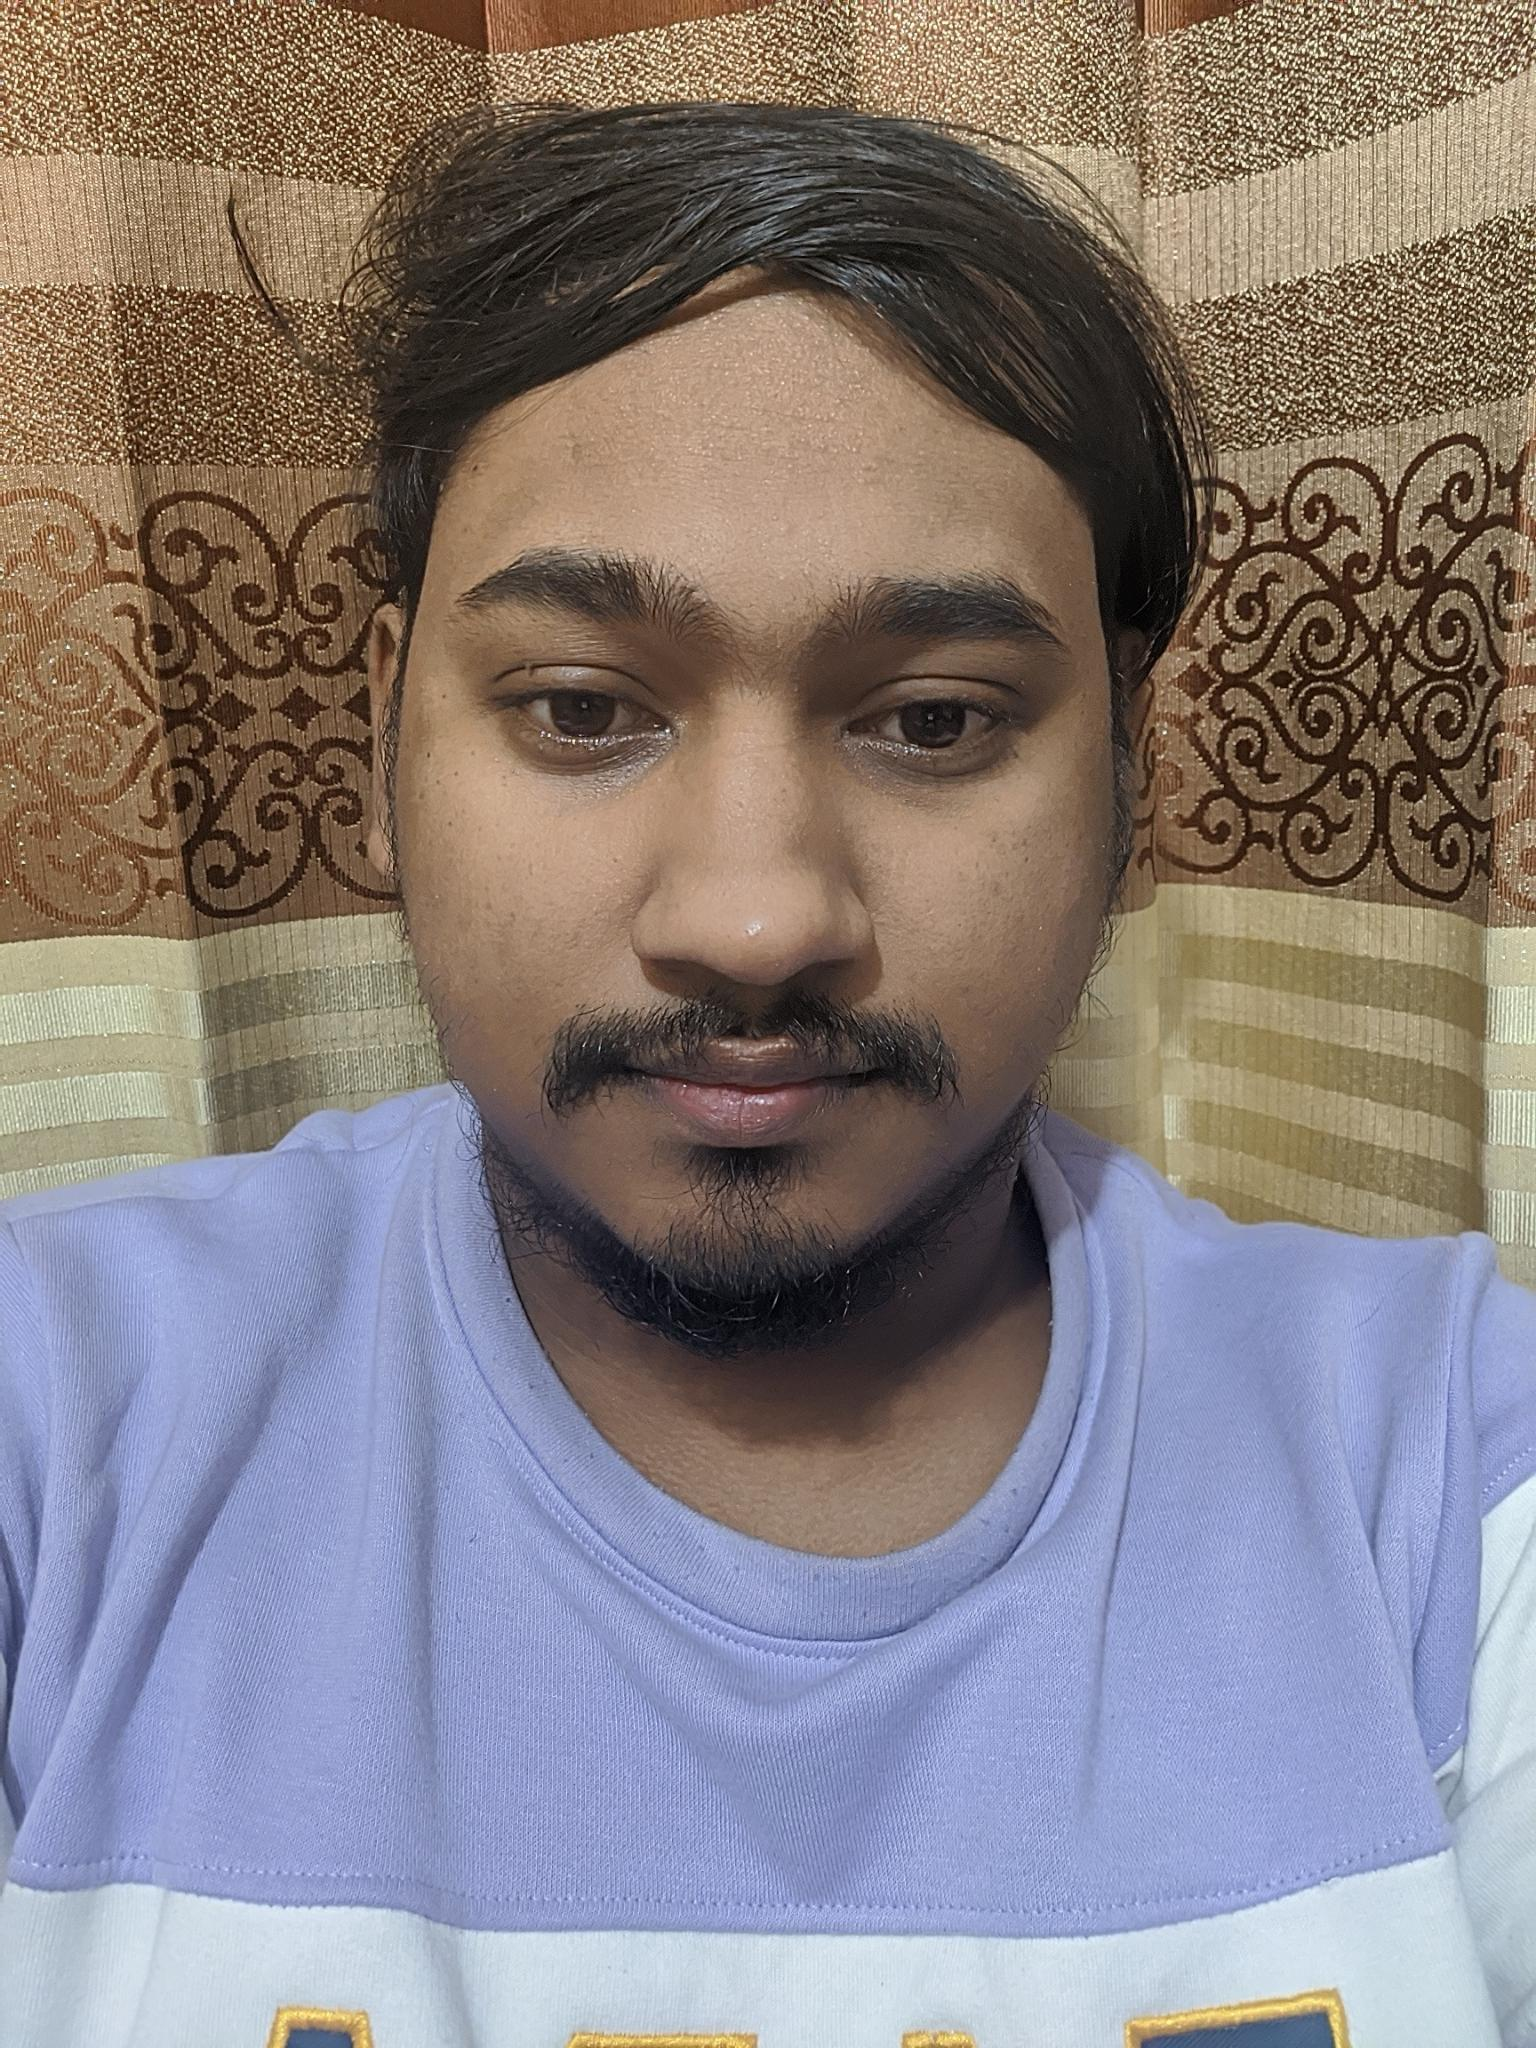Neutral: (428, 468, 1091, 1329)
